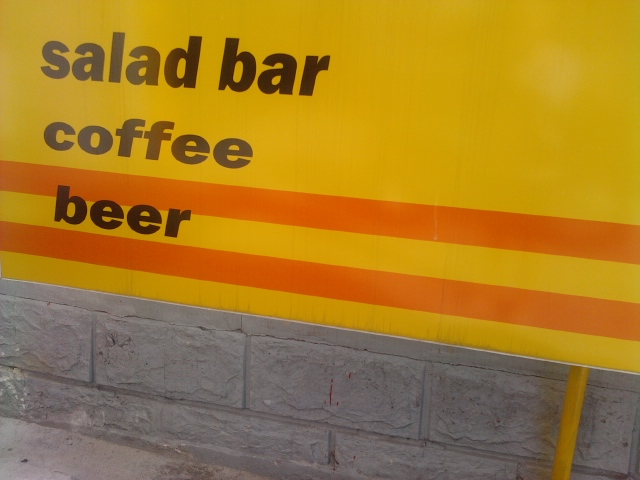sign_readable: (35, 35, 336, 236)
